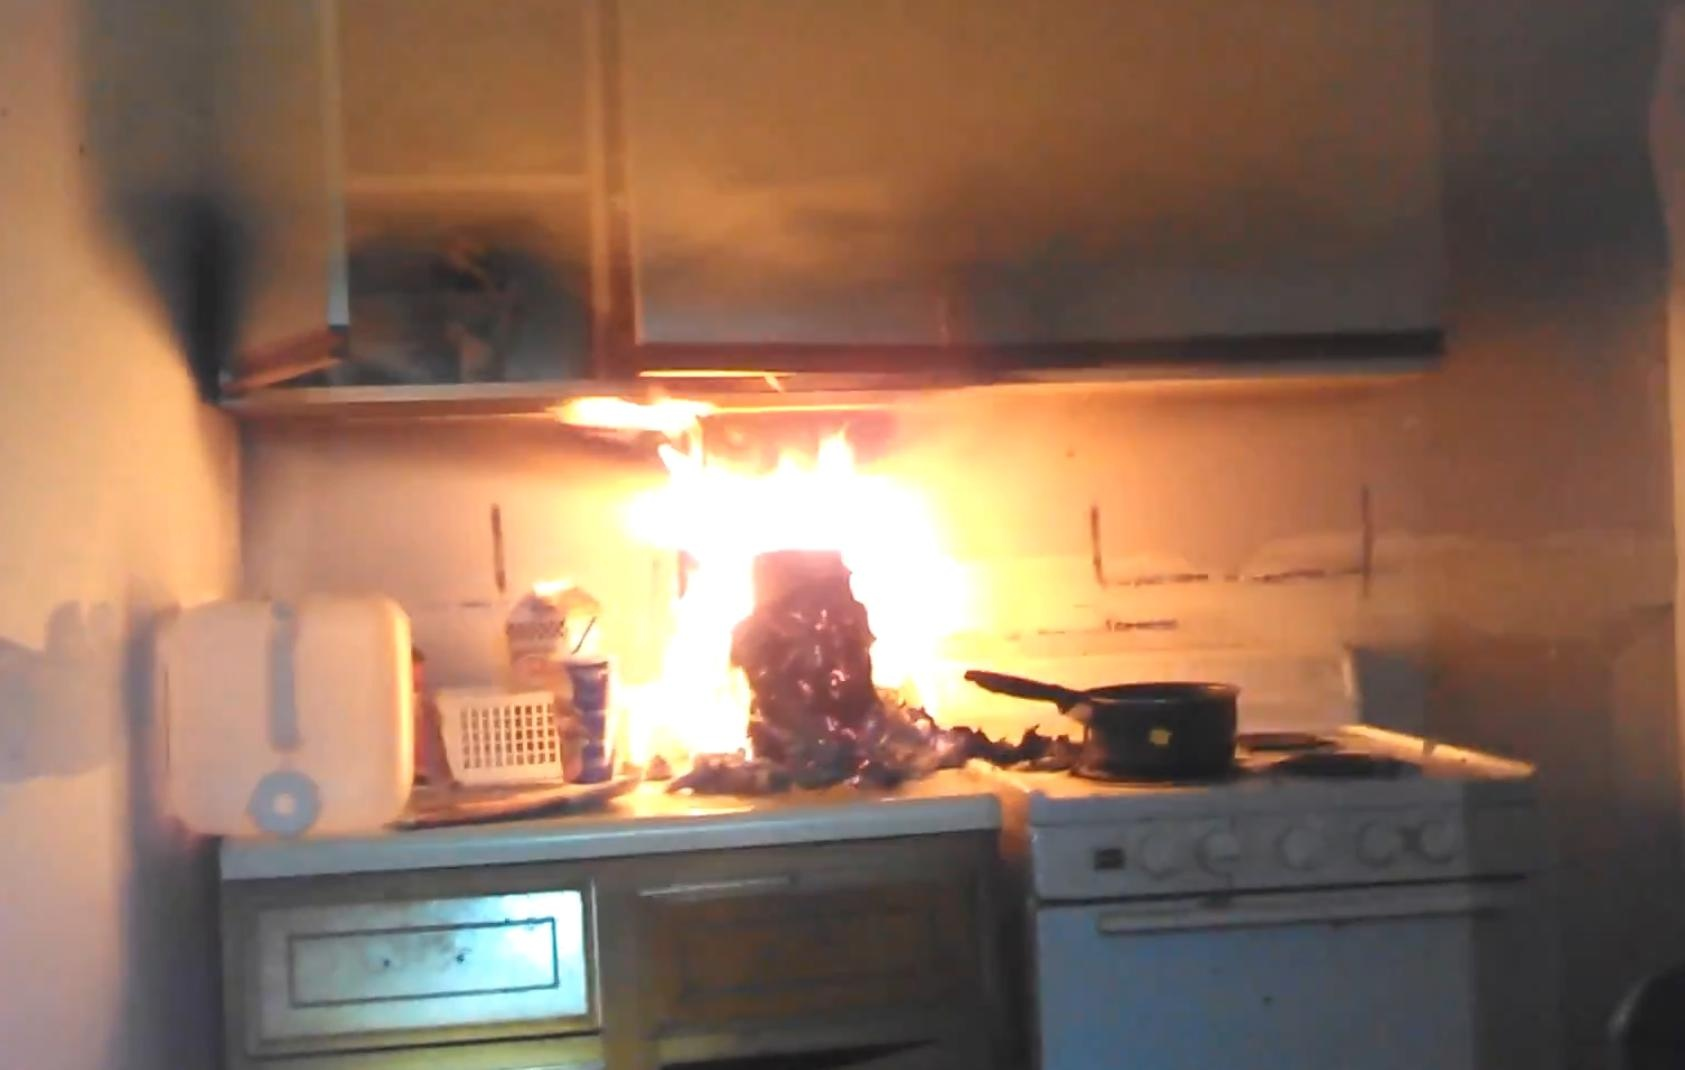fire: (545, 369, 1005, 800)
